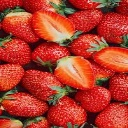strawberry: (29, 10, 82, 44), (18, 67, 70, 101), (51, 54, 99, 90)
